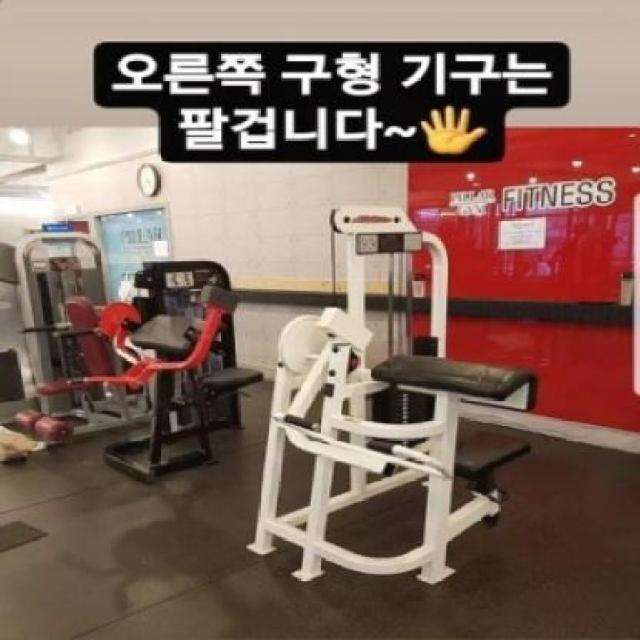arm curl machine: (252, 353, 537, 584), (71, 303, 263, 485)
